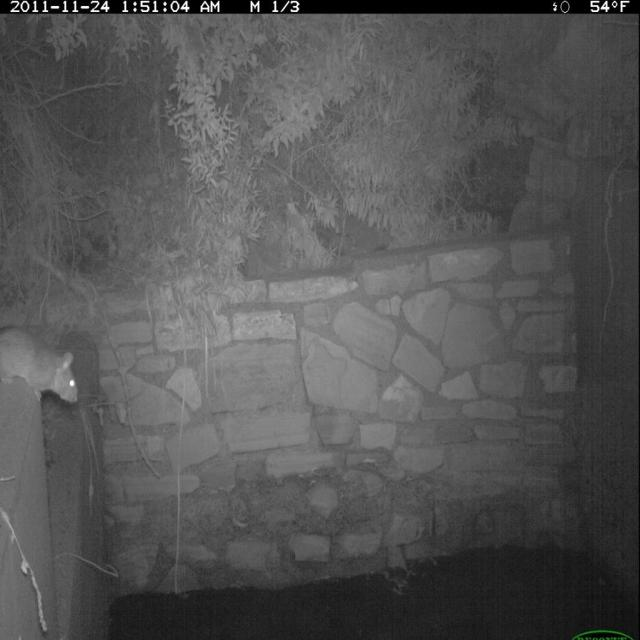rodent: (2, 323, 82, 425)
